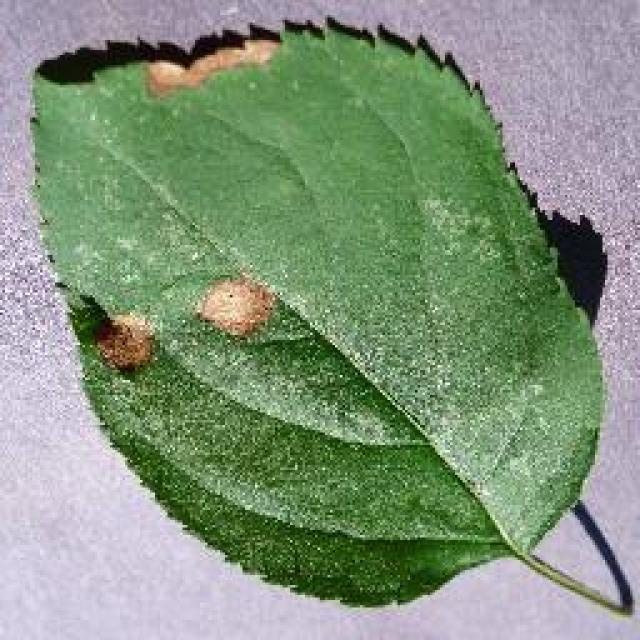Apple___Black_rot: (26, 15, 609, 612)
